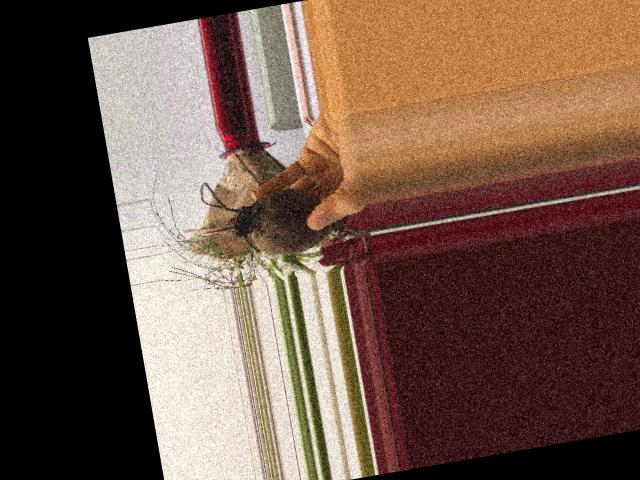beet: (198, 157, 367, 277)
